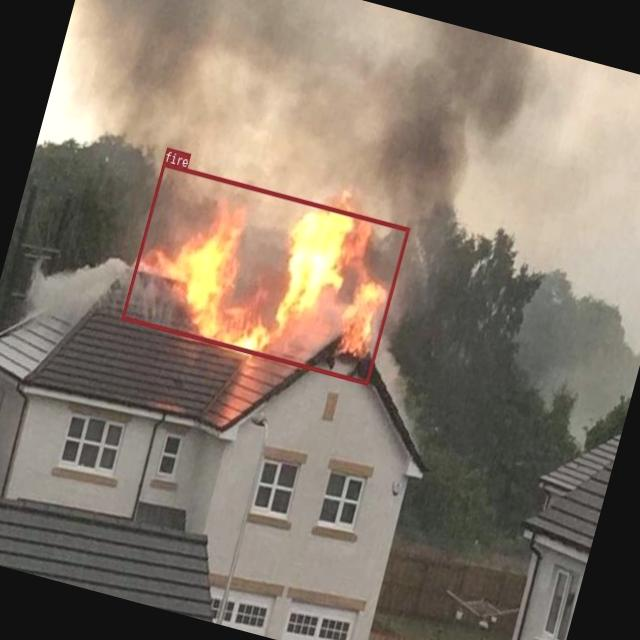fire: (120, 160, 410, 384)
